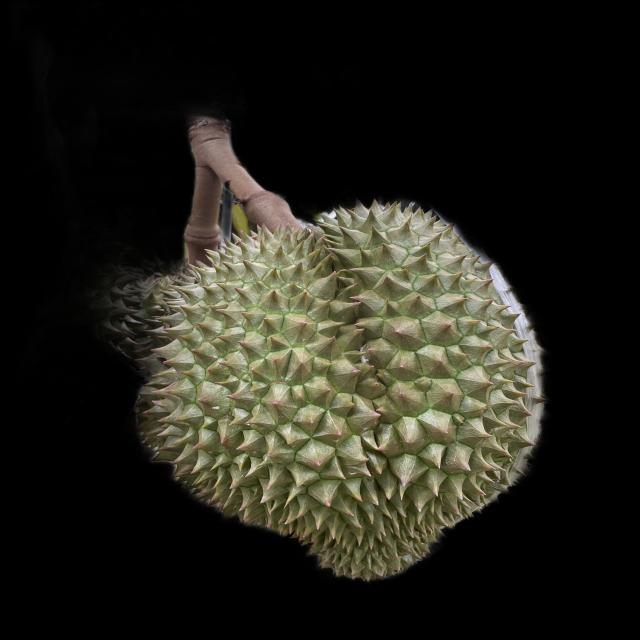immature: (146, 199, 538, 587)
